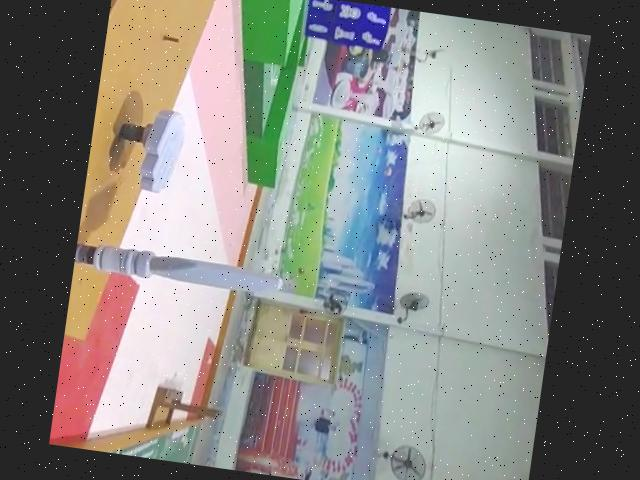Hand: (117, 104, 193, 199)
Sph: (74, 238, 287, 295)
